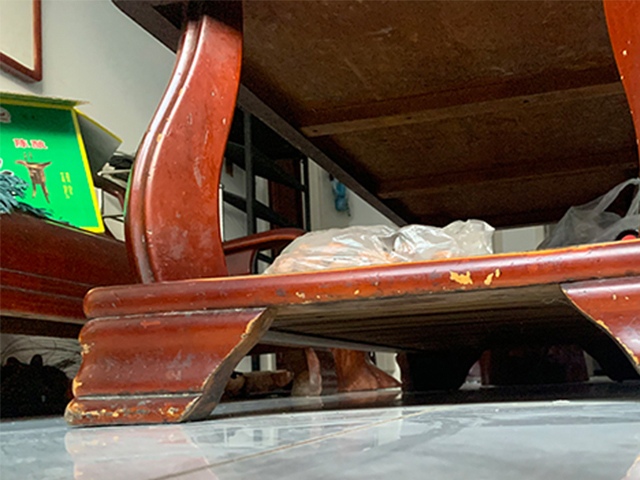table: (63, 1, 640, 427)
